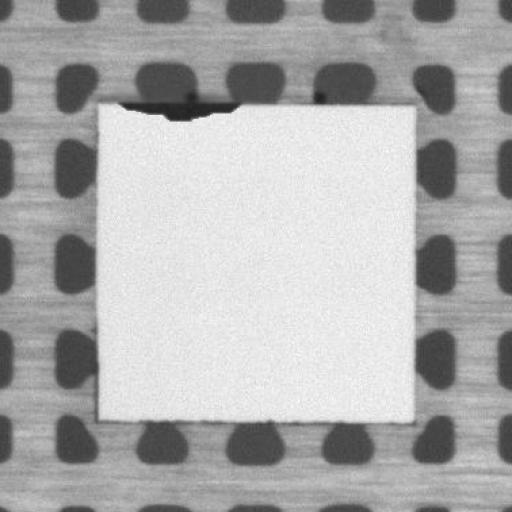DIE_BROKEN: (115, 94, 245, 122)
